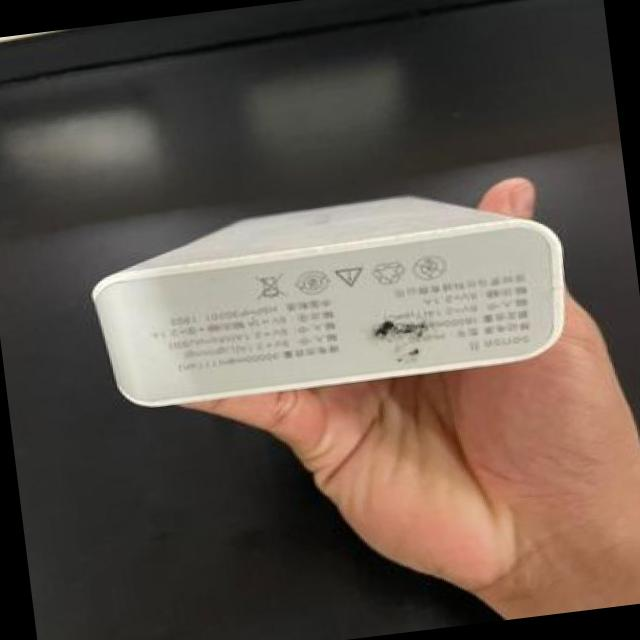portable-charger: (69, 170, 589, 423)
